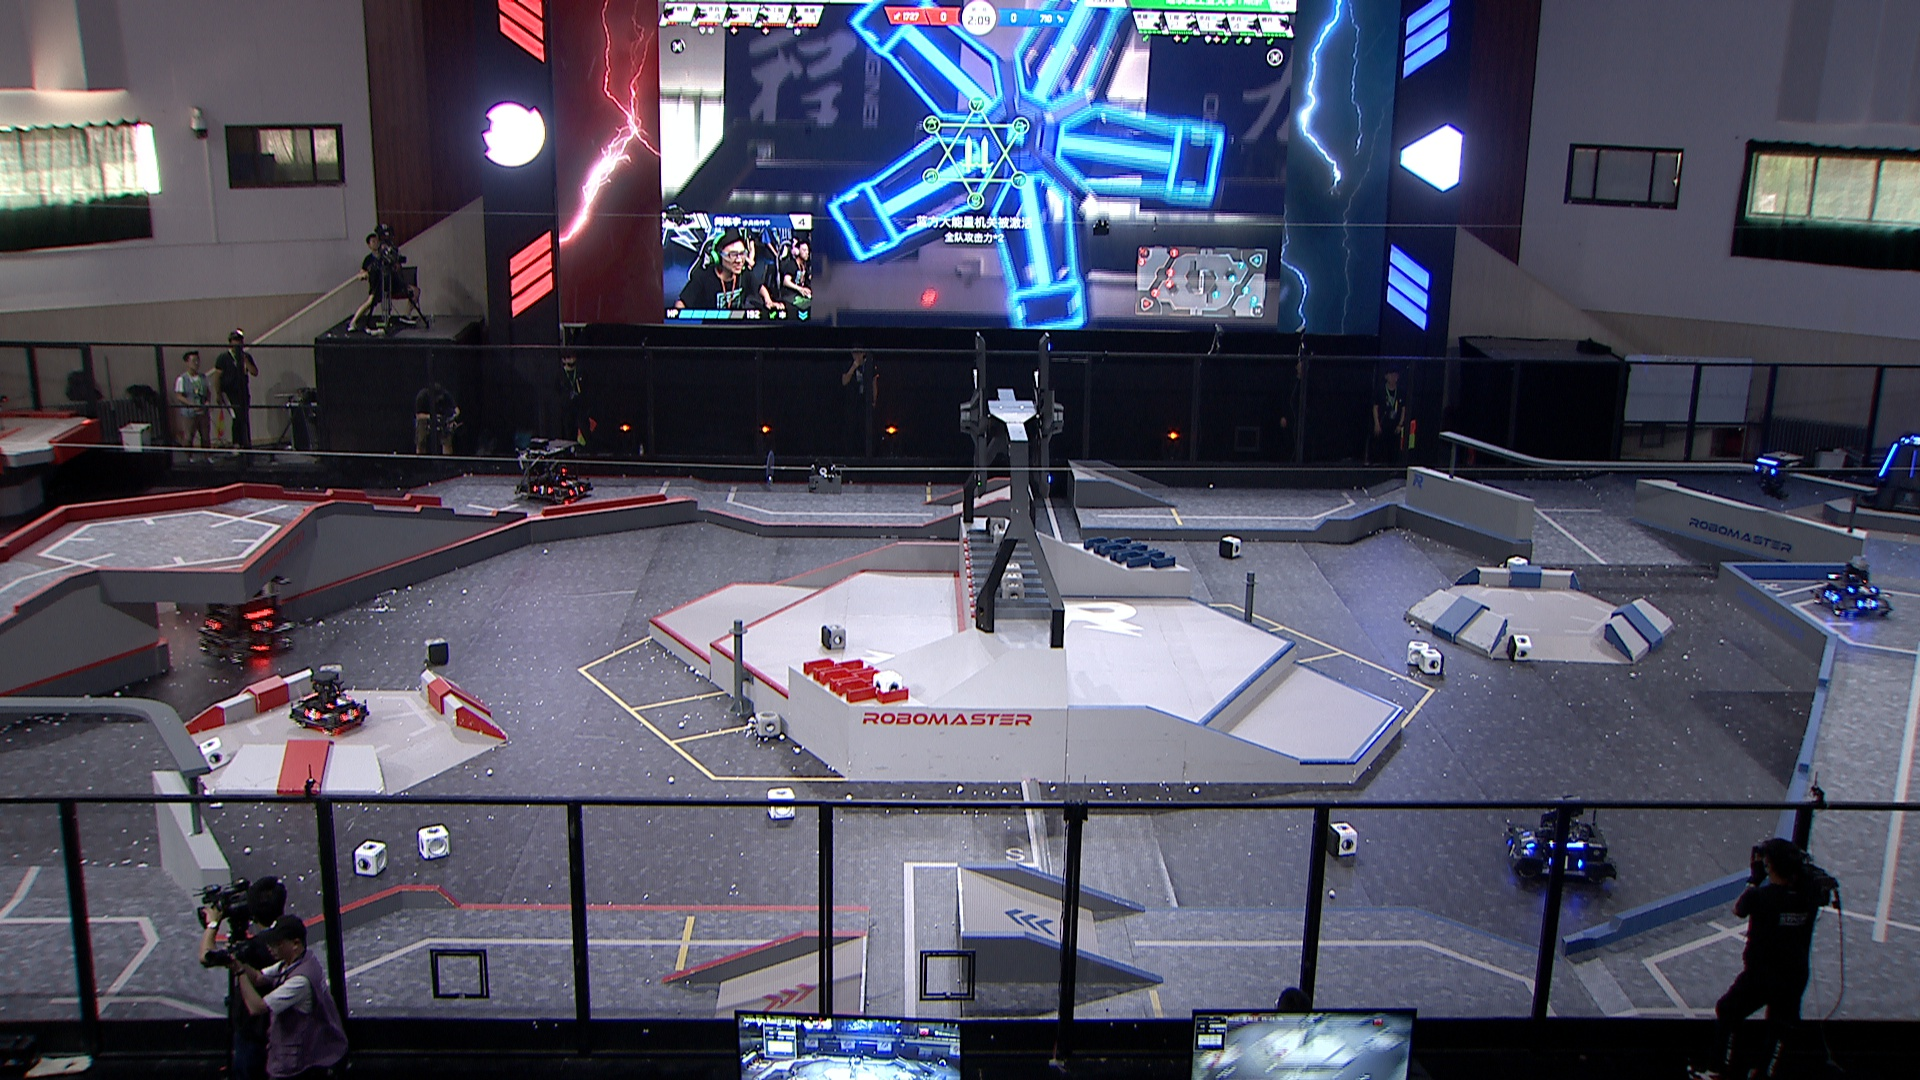armor: (1547, 853, 1585, 874), (1879, 443, 1899, 477), (252, 617, 276, 636), (324, 695, 353, 709), (1846, 585, 1880, 597), (1506, 839, 1522, 862), (1908, 451, 1920, 481), (1855, 597, 1879, 612), (1522, 831, 1538, 851), (204, 617, 224, 632), (305, 708, 324, 723), (531, 484, 555, 496), (1755, 463, 1776, 476), (1822, 589, 1840, 604), (340, 708, 359, 721), (567, 485, 584, 498), (558, 479, 578, 489), (1904, 436, 1920, 446)
base: (1855, 436, 1920, 517)
car: (1503, 798, 1617, 893), (193, 564, 294, 666), (516, 436, 595, 508), (289, 669, 372, 736), (1813, 553, 1896, 618)
watcher: (1753, 451, 1803, 501)
